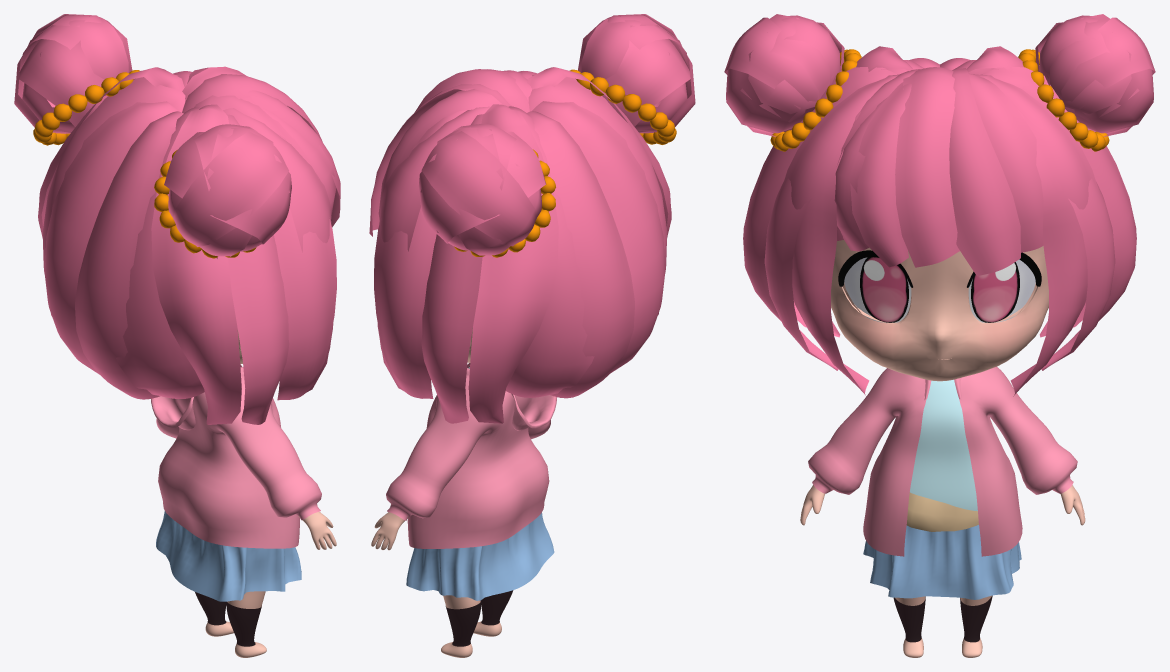
The model's file is chibi_girl_character.glb.
3 views of the same model, side by side, from view 1: azimuth 30°, elevation 25°; view 2: azimuth 150°, elevation 25°; view 3: azimuth 270°, elevation 25° (orthographic).
Parts seen in each view (by area): view 1: Cube.007; view 2: Cube.007; view 3: Cube.007.
Boxes of the visible parts, x1,y1,x2,y2 form: Cube.007: [14, 14, 340, 657]; Cube.007: [369, 14, 695, 657]; Cube.007: [724, 14, 1155, 657].
Bounding box in the file's own units: 0.8459 × 1.94 × 1.28.
Materials: 10 (10 with a texture image).
